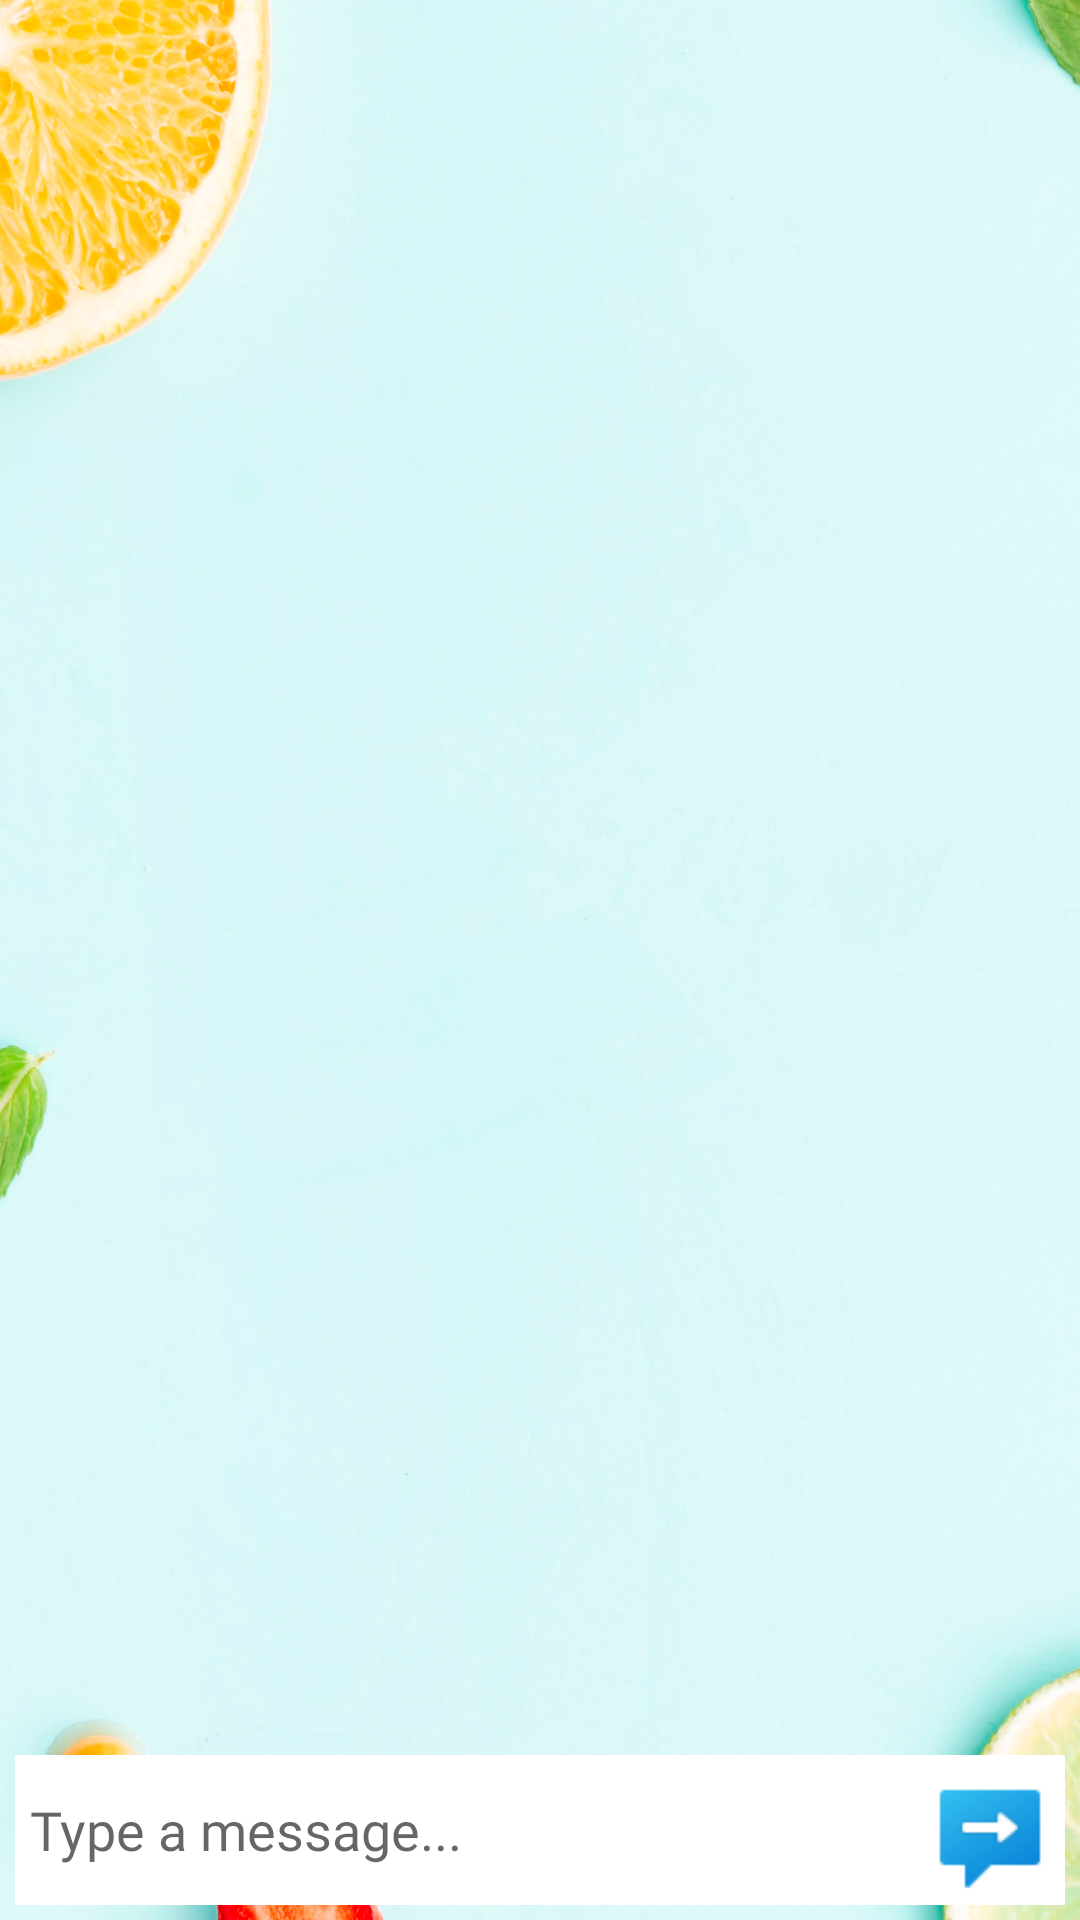

Screen size 1080 x 1920. Icon name, then its center in pixels as (x,y):
send: (990,1838)
